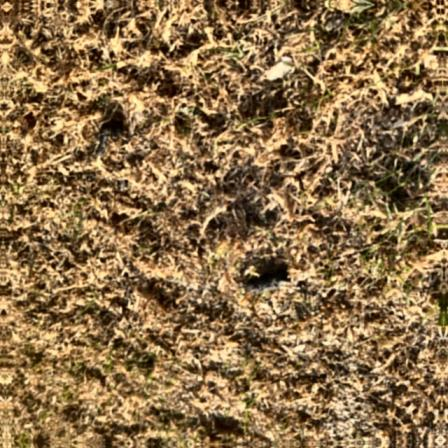dog-poop: (246, 258, 302, 297)
